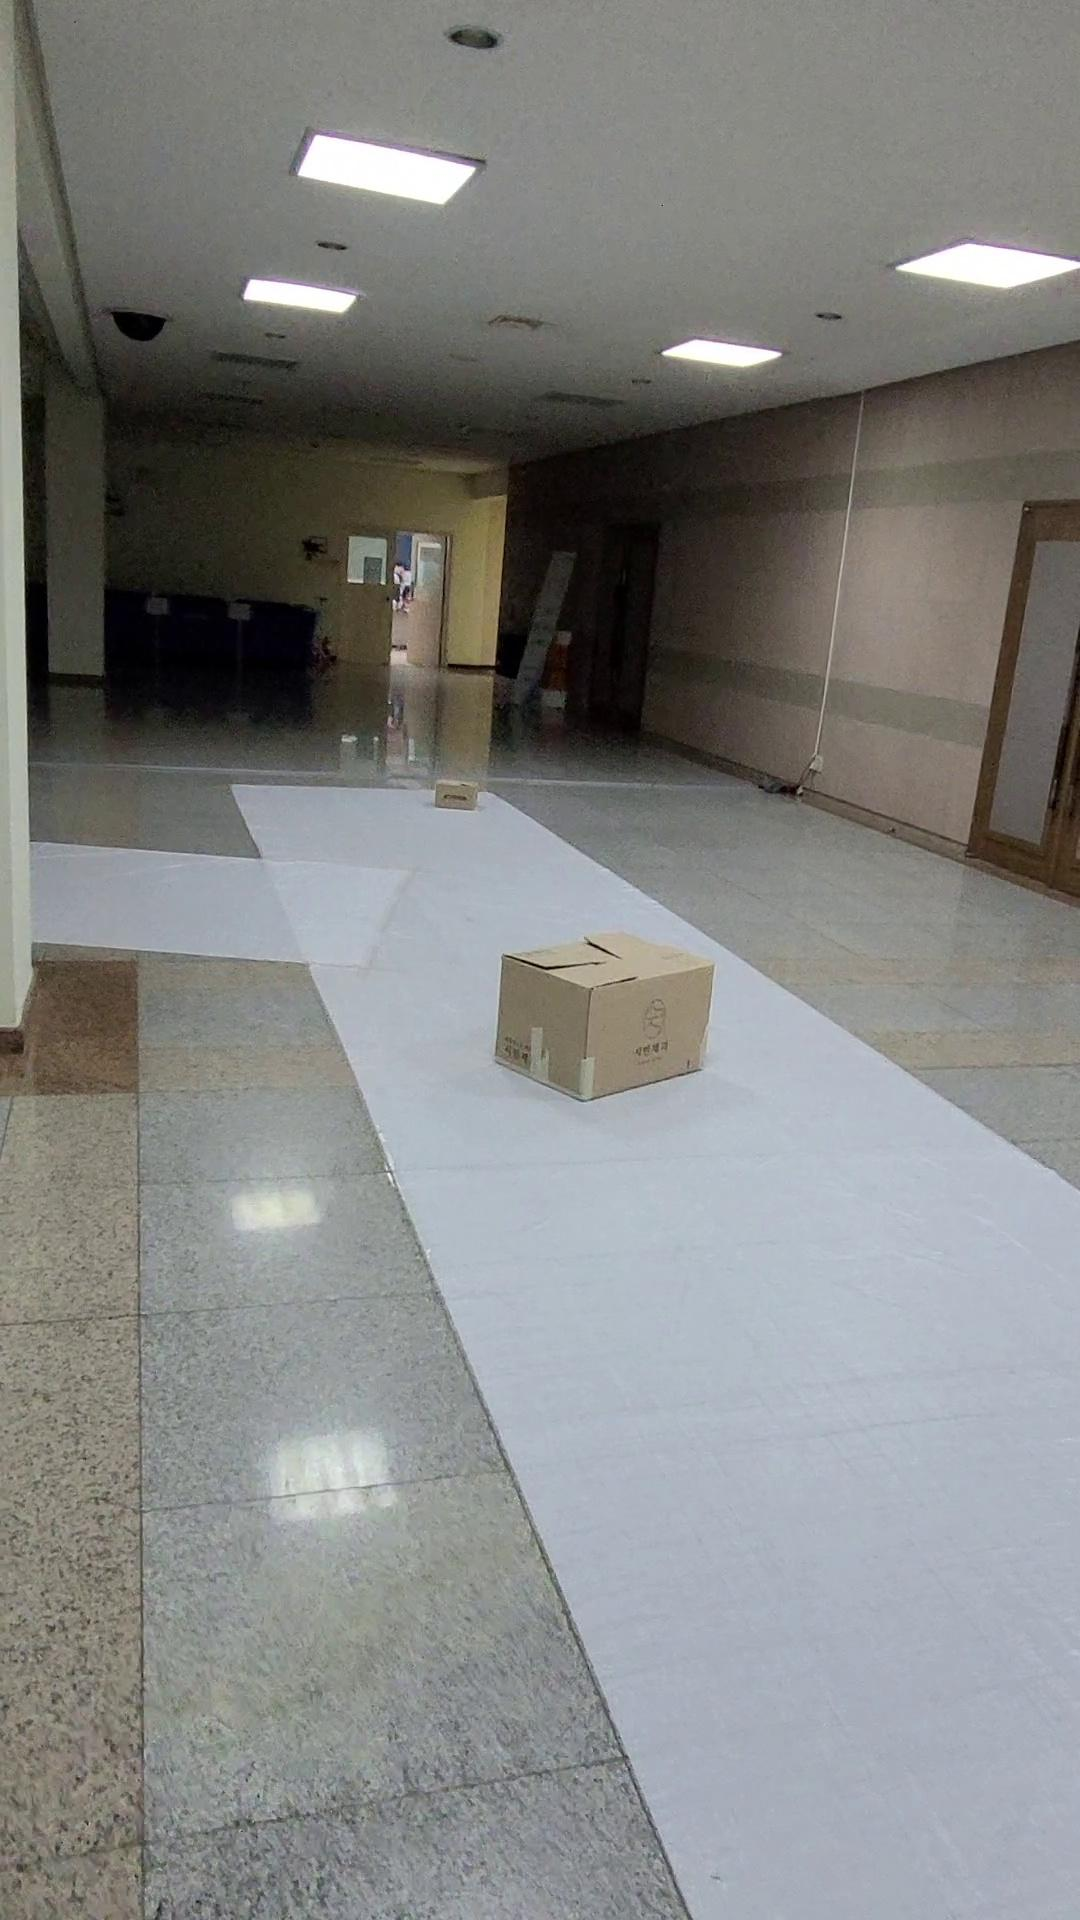Box: (448, 903, 782, 1139), (401, 758, 508, 829)
